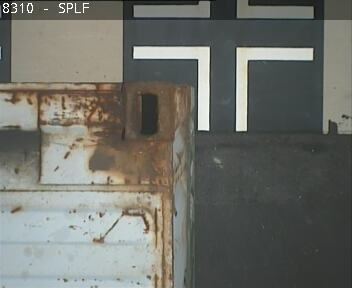groundmarker_1: (133, 45, 313, 131)
